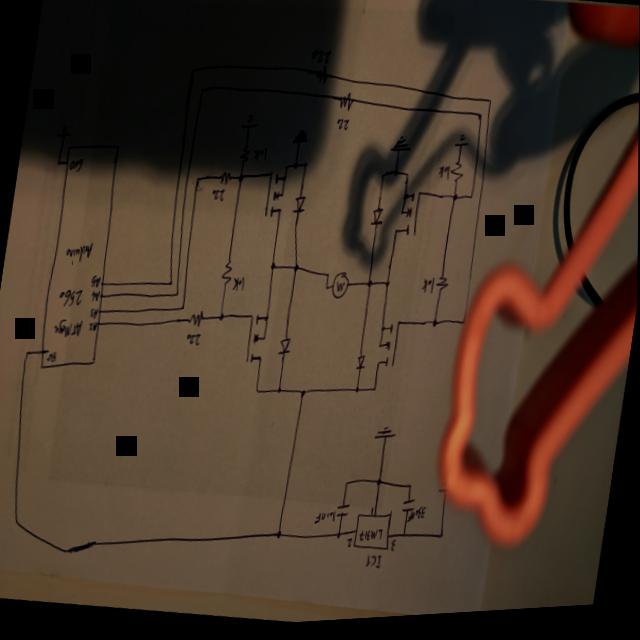capacitor: (401, 502, 417, 521), (336, 506, 350, 525)
diode: (292, 196, 308, 221), (370, 210, 385, 233), (277, 339, 292, 361), (355, 358, 367, 377)
ground: (373, 426, 397, 448), (389, 138, 413, 160), (240, 112, 261, 135), (292, 131, 310, 151), (56, 123, 73, 141), (454, 137, 469, 155)
junction: (11, 511, 24, 531), (431, 322, 439, 334), (276, 532, 283, 544), (218, 314, 225, 326), (23, 348, 30, 360), (270, 264, 277, 275), (376, 482, 383, 493), (237, 176, 244, 187), (198, 88, 205, 99), (190, 67, 196, 79), (366, 283, 373, 293), (300, 392, 307, 402), (292, 165, 299, 175), (293, 266, 300, 276), (336, 534, 343, 544), (477, 117, 483, 128), (277, 389, 283, 399), (384, 284, 390, 294), (452, 198, 458, 208), (401, 535, 407, 545), (393, 173, 399, 183), (354, 390, 360, 399), (439, 537, 445, 546), (254, 390, 260, 399), (302, 164, 308, 173), (180, 306, 185, 315), (381, 176, 386, 185), (168, 281, 173, 290), (408, 488, 413, 496), (344, 484, 349, 492), (57, 160, 62, 168), (461, 324, 466, 332), (373, 390, 378, 398), (469, 199, 474, 207), (195, 178, 200, 186), (174, 293, 179, 301), (325, 276, 330, 284), (487, 104, 492, 111), (405, 176, 410, 183), (325, 289, 330, 296), (283, 167, 288, 174)
resistor: (312, 67, 332, 90), (337, 94, 356, 117), (219, 262, 234, 291), (448, 165, 465, 190), (187, 311, 205, 332), (434, 278, 450, 299), (239, 148, 251, 167), (219, 174, 232, 189)
source: (437, 484, 456, 501)
text: (51, 314, 83, 346), (64, 239, 94, 270), (56, 285, 84, 312), (313, 510, 337, 532), (358, 530, 384, 550), (310, 49, 332, 71), (407, 508, 427, 529), (365, 555, 383, 576), (421, 280, 436, 301), (436, 167, 451, 188), (252, 149, 268, 168), (185, 333, 202, 350), (68, 158, 84, 175), (232, 278, 246, 297), (210, 189, 225, 206), (335, 120, 350, 136), (90, 274, 102, 289), (46, 351, 58, 365), (90, 290, 100, 305), (89, 307, 99, 321), (88, 321, 98, 334), (390, 542, 398, 557), (346, 541, 355, 554), (370, 510, 375, 521)
transistor: (373, 321, 402, 377), (244, 313, 270, 370), (394, 191, 421, 242), (262, 172, 288, 224)
